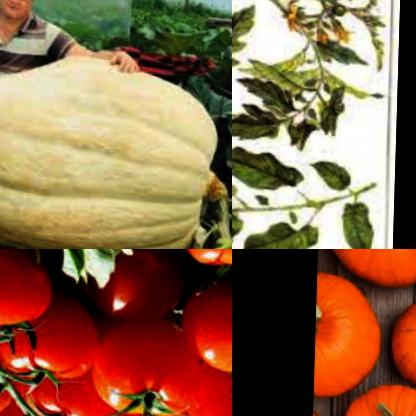pumpkin: (0, 37, 223, 249), (314, 269, 387, 403), (323, 249, 416, 283), (338, 376, 416, 416), (397, 286, 416, 386)
tomato: (84, 306, 202, 416), (0, 285, 98, 391), (91, 249, 191, 324), (17, 353, 117, 416), (0, 249, 56, 351), (180, 269, 232, 376), (169, 358, 232, 416), (72, 389, 151, 416), (182, 249, 232, 276)
